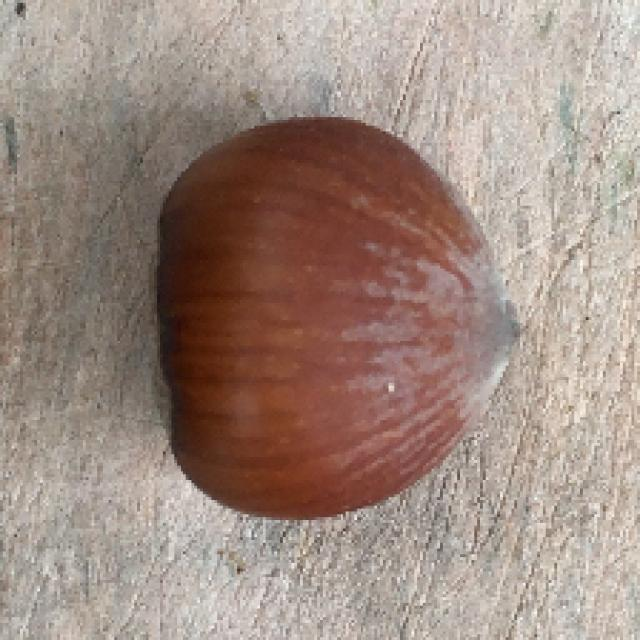qualityHazelnut: (136, 117, 525, 522)
